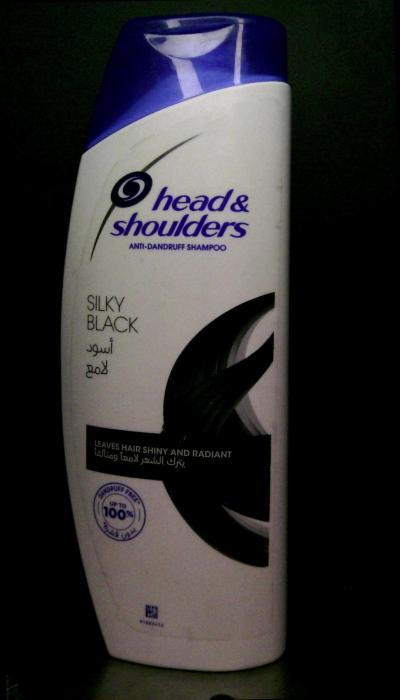tear_marg: (66, 242, 94, 280), (268, 178, 291, 202), (272, 216, 286, 239)
